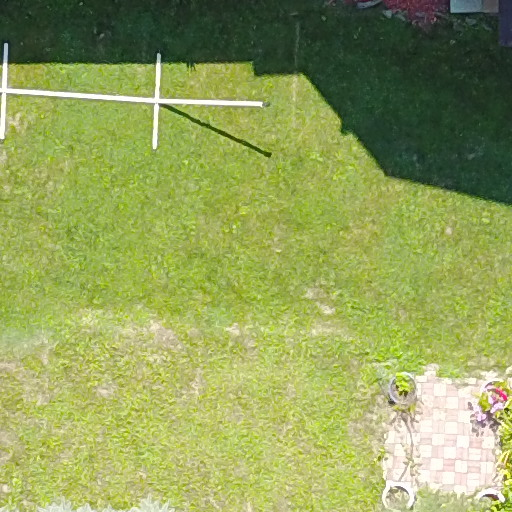flower pot: (466, 363, 512, 429), (373, 466, 417, 512), (386, 368, 424, 413)
